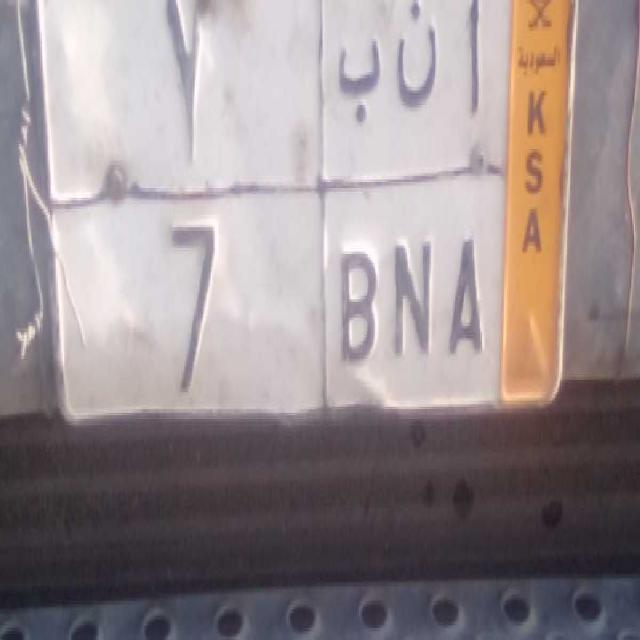license_plate: (45, 177, 506, 430)
